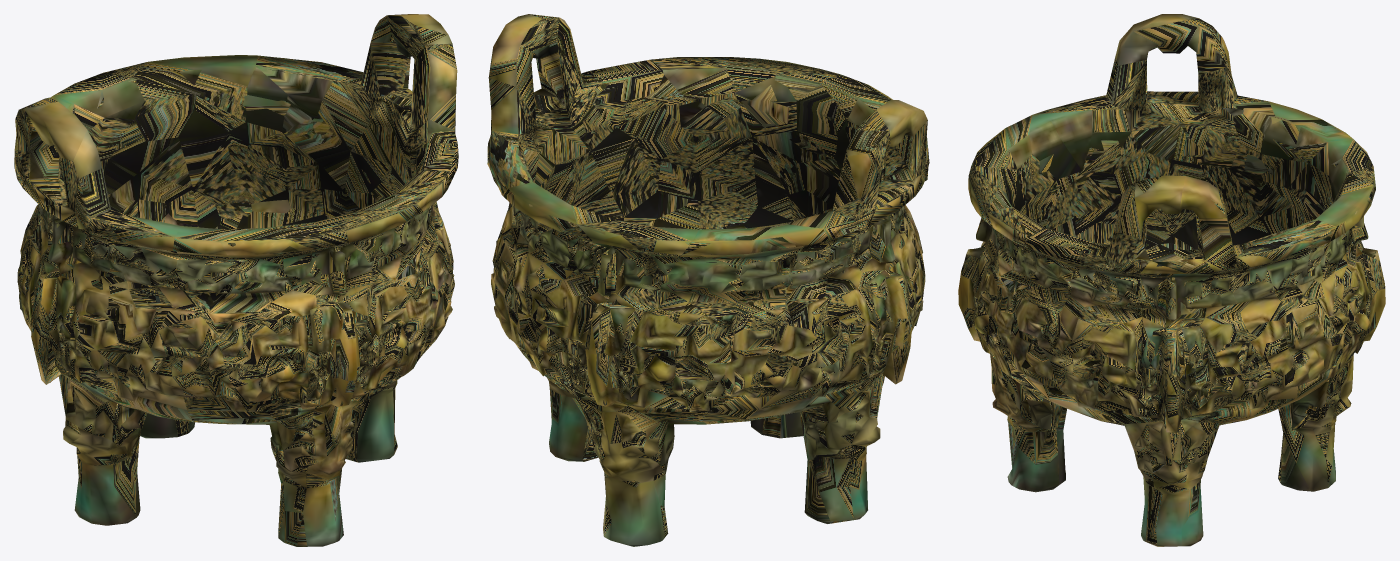
File: bq_furnace.lod.glb
3 views of the same model, side by side, from view 1: azimuth 30°, elevation 25°; view 2: azimuth 150°, elevation 25°; view 3: azimuth 270°, elevation 25° (orthographic). The views are drawn at different scales.
Size of the model in its own units: 1.69 by 1.66 by 1.69.
Materials: 1 (1 with a texture image).
